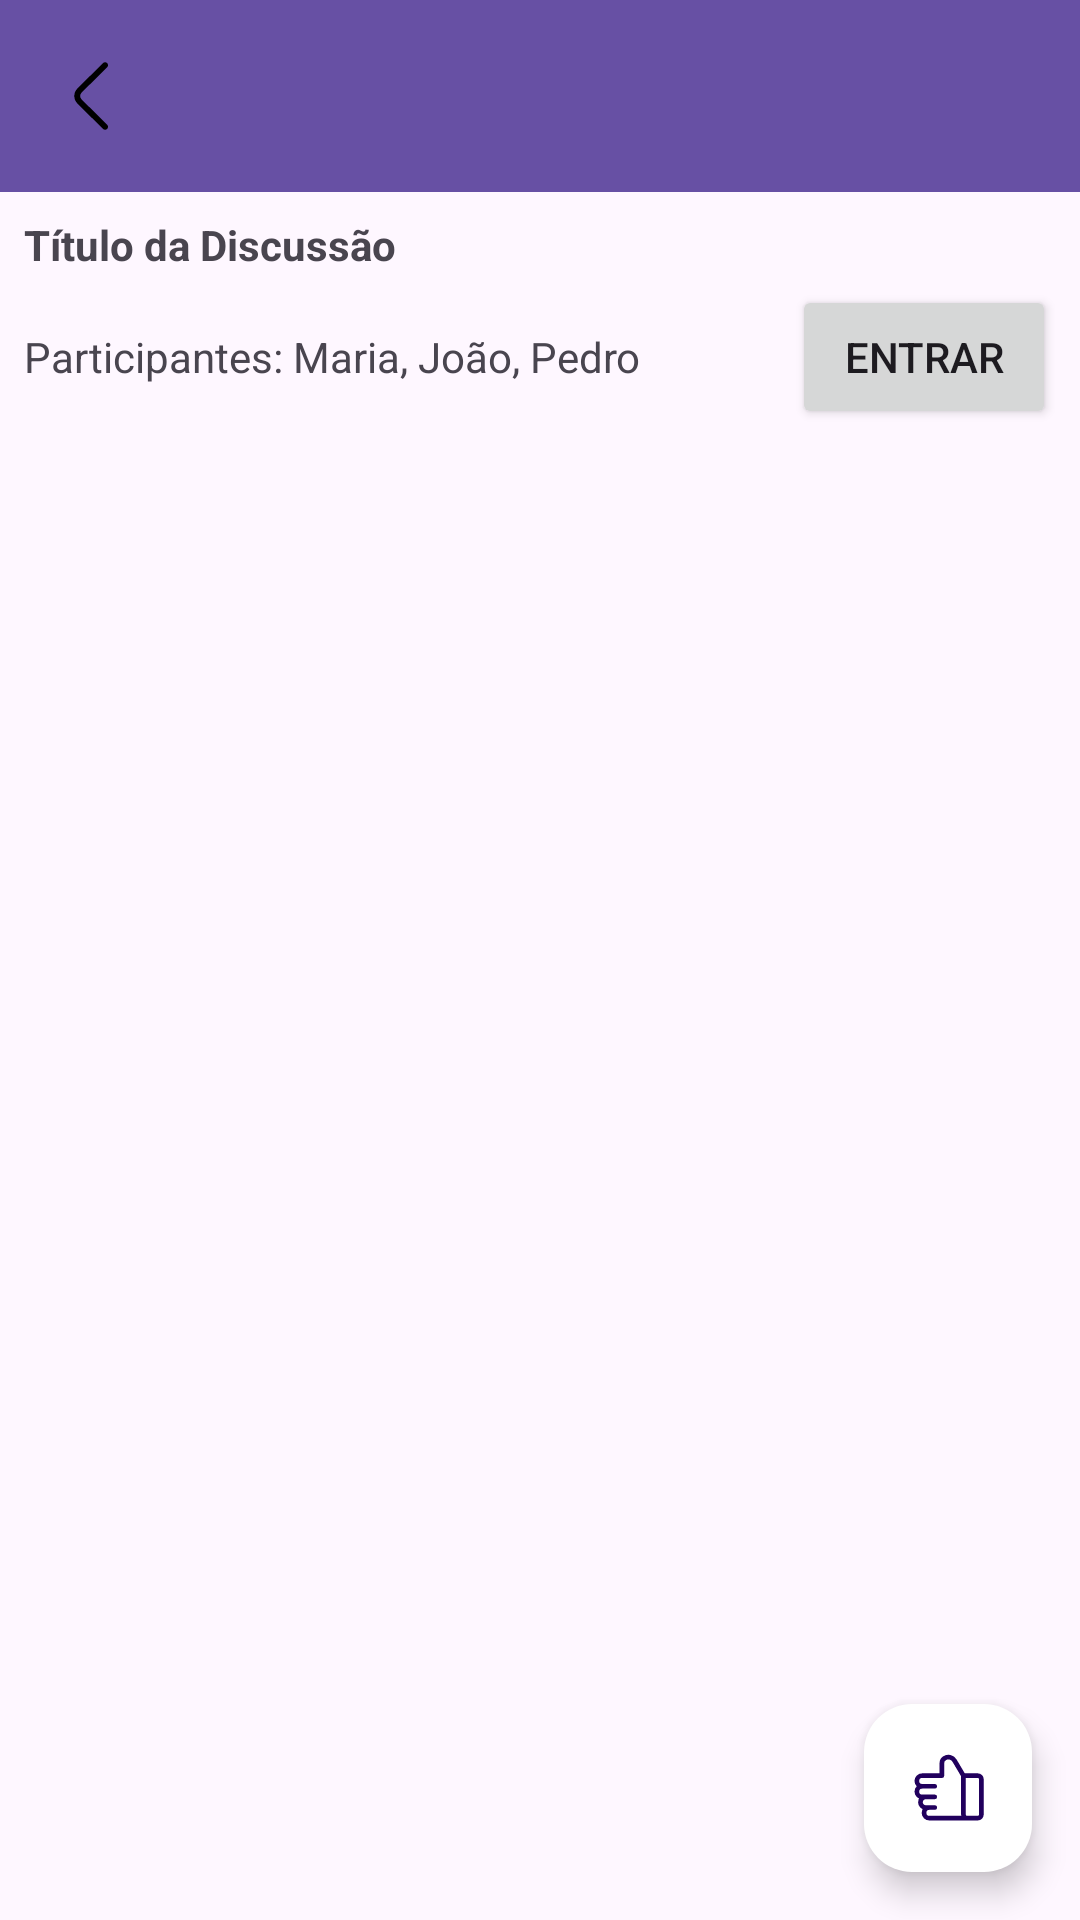

Screen size 1080 x 1920. Icon name, then its center in pixels as (x,y):
Back Button: (91,96)
